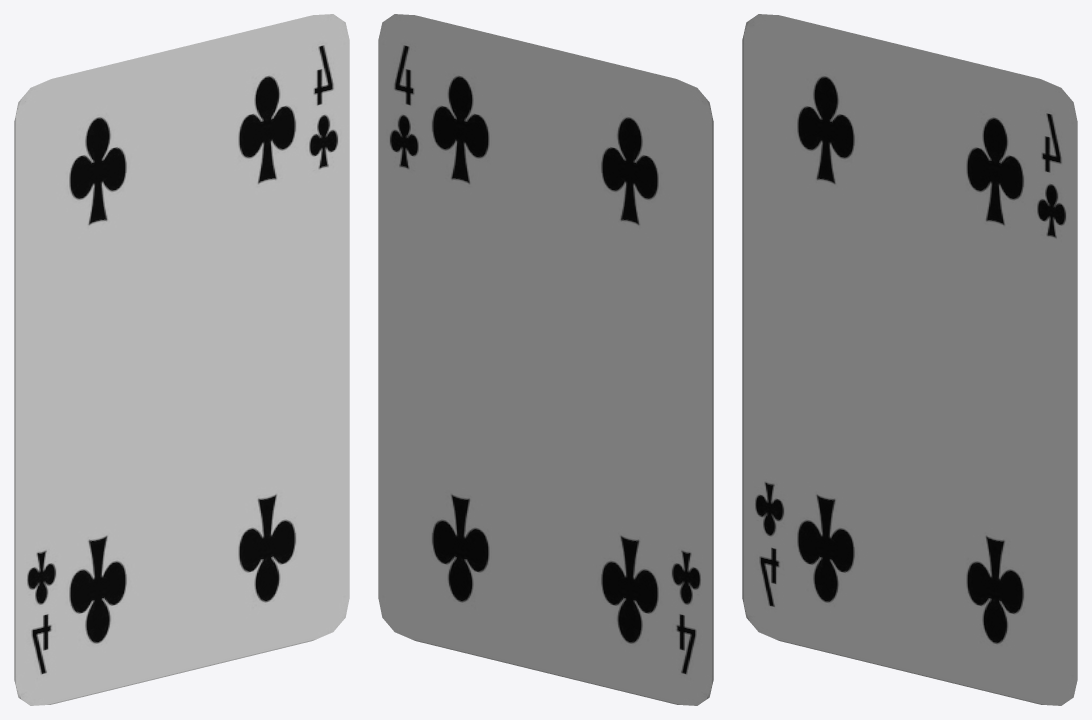
File: 4_clubs.glb
The picture shows the model from 3 angles, left to right: view 1: azimuth 30°, elevation 25°; view 2: azimuth 150°, elevation 25°; view 3: azimuth 330°, elevation 25°; orthographic projection.
Parts seen in each view (by area): view 1: Four of Clubs_30_0; view 2: Four of Clubs_30_0; view 3: Four of Clubs_30_0.
Boxes of the visible parts, box(x1,y1,x2,y2) form: Four of Clubs_30_0: box(14, 14, 349, 705); Four of Clubs_30_0: box(378, 14, 713, 705); Four of Clubs_30_0: box(742, 14, 1077, 705).
Size of the model in its own units: 0.2527 by 0.4503 by 2.78e-17.
Materials: 1 (1 with a texture image).
